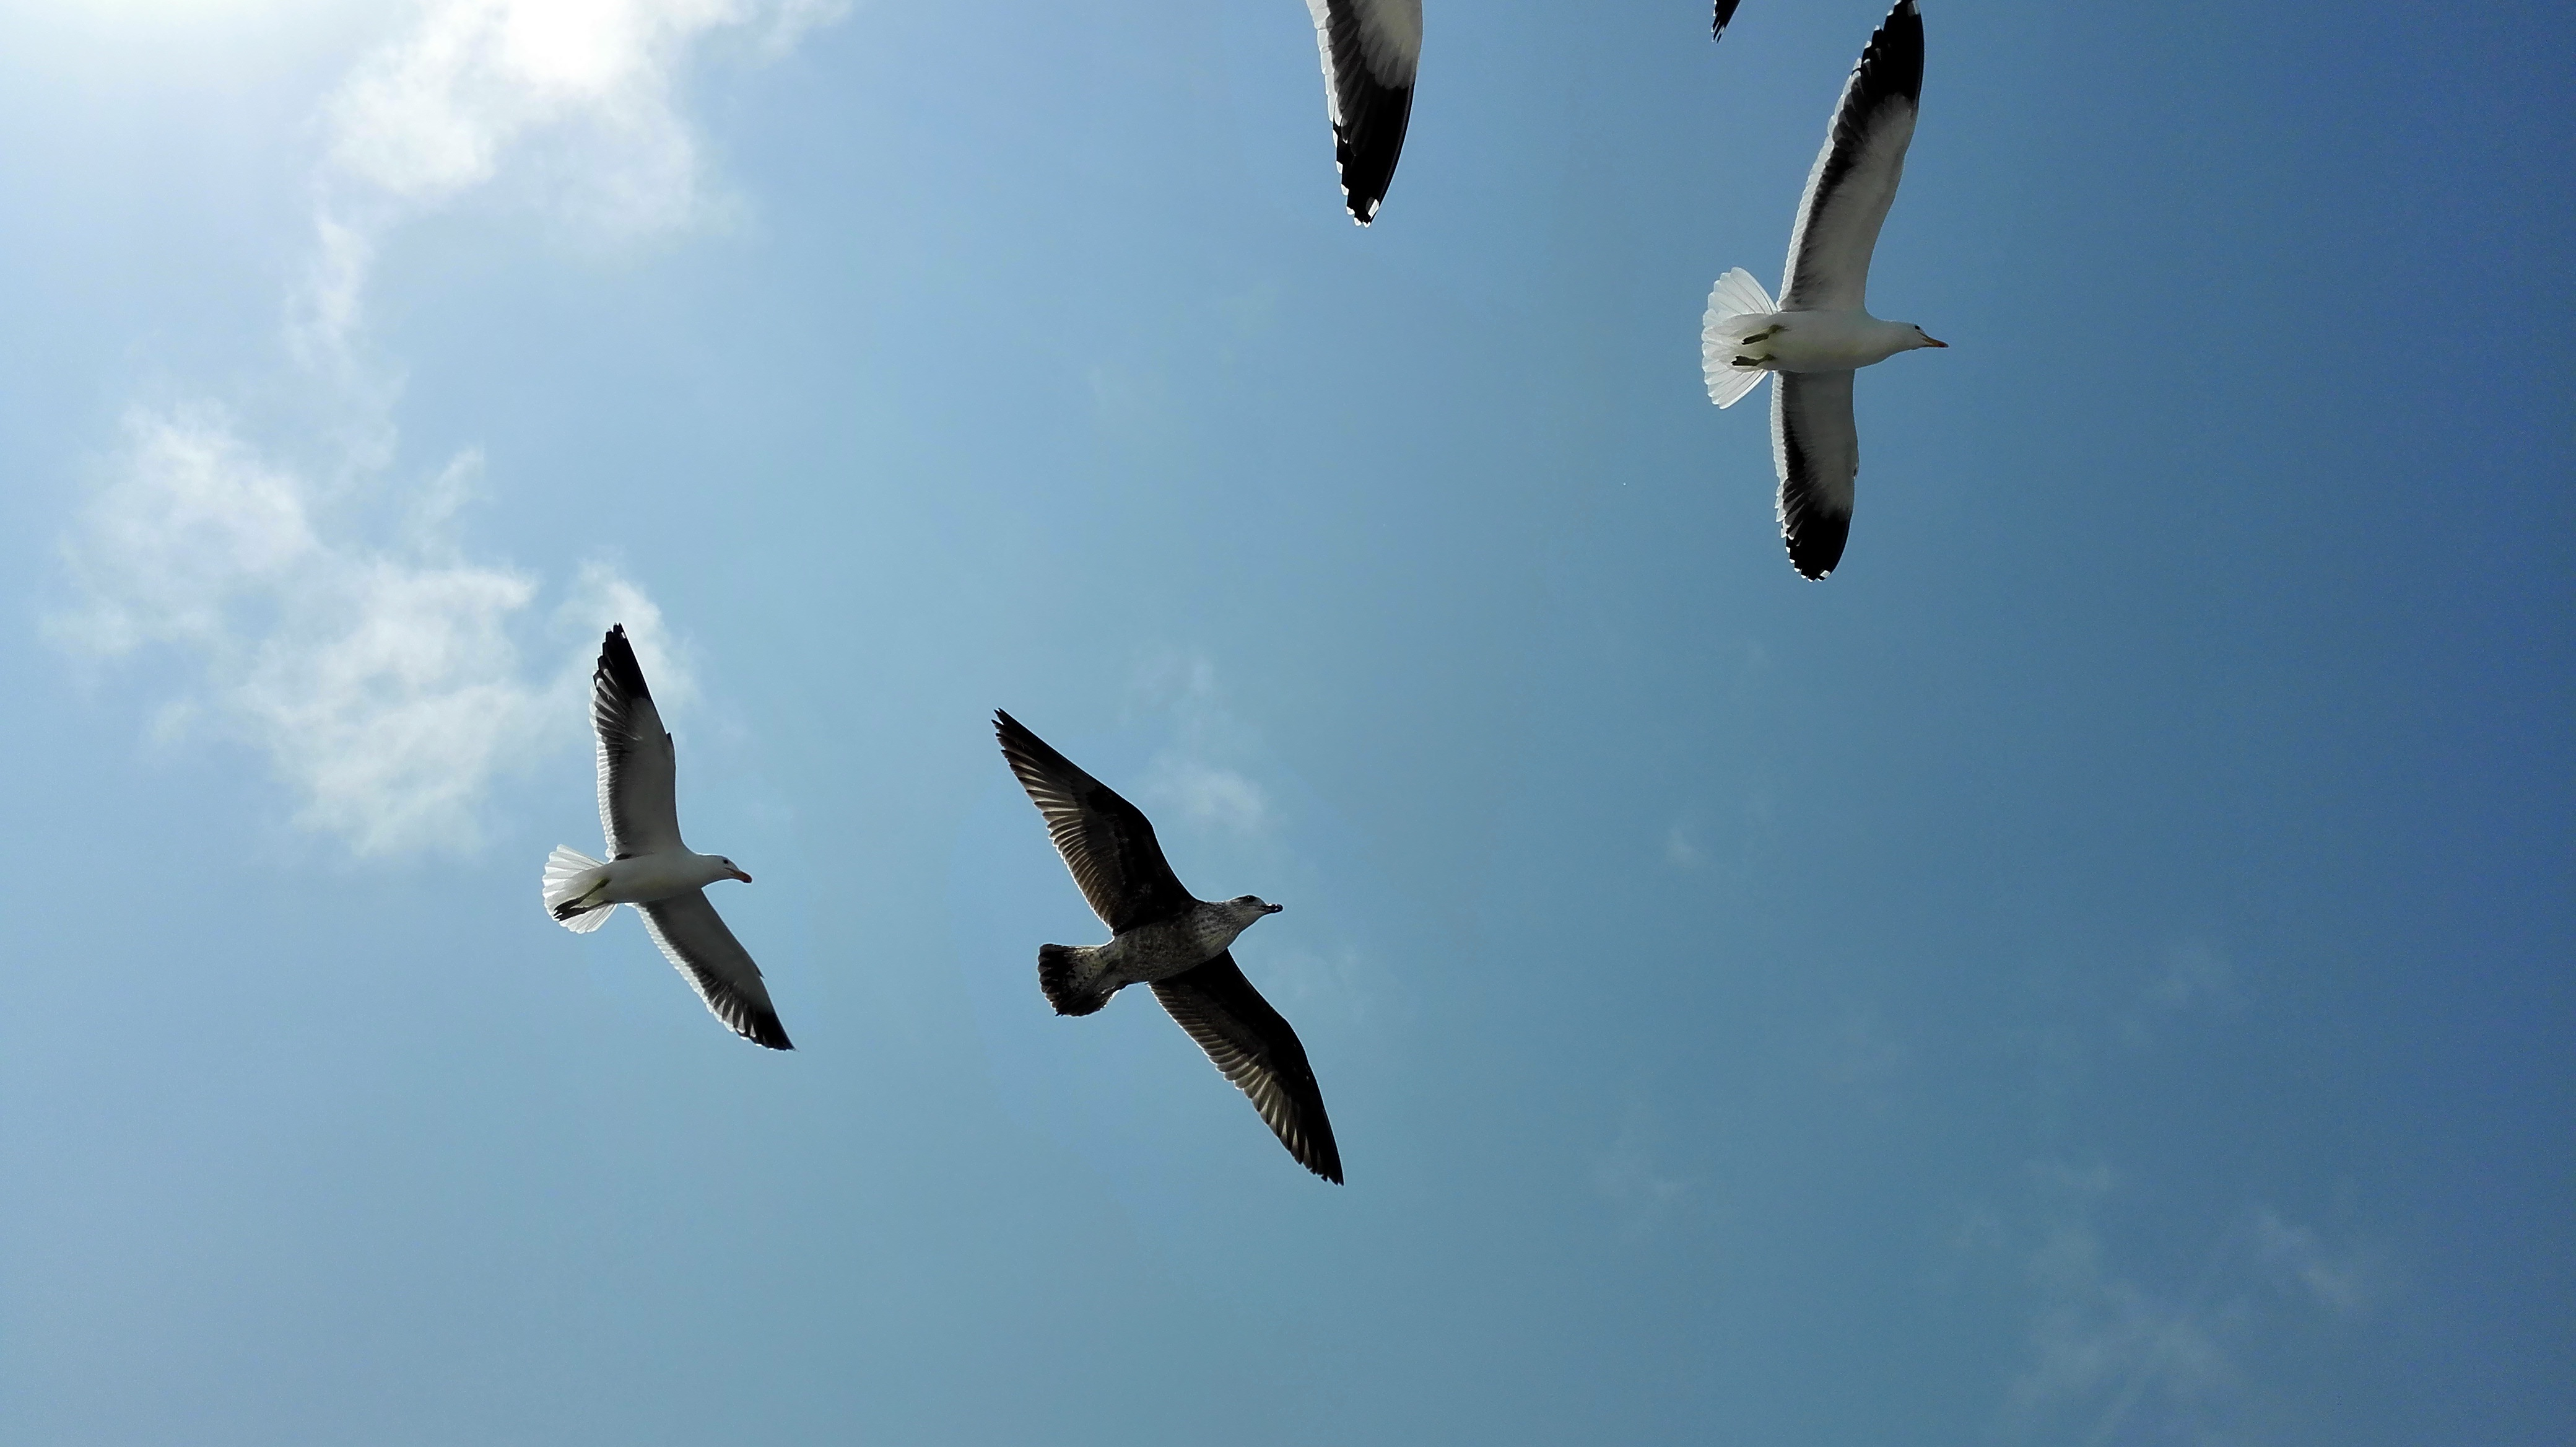bird: (987, 692, 1352, 1191), (1688, 0, 1992, 578), (534, 623, 791, 1065)
